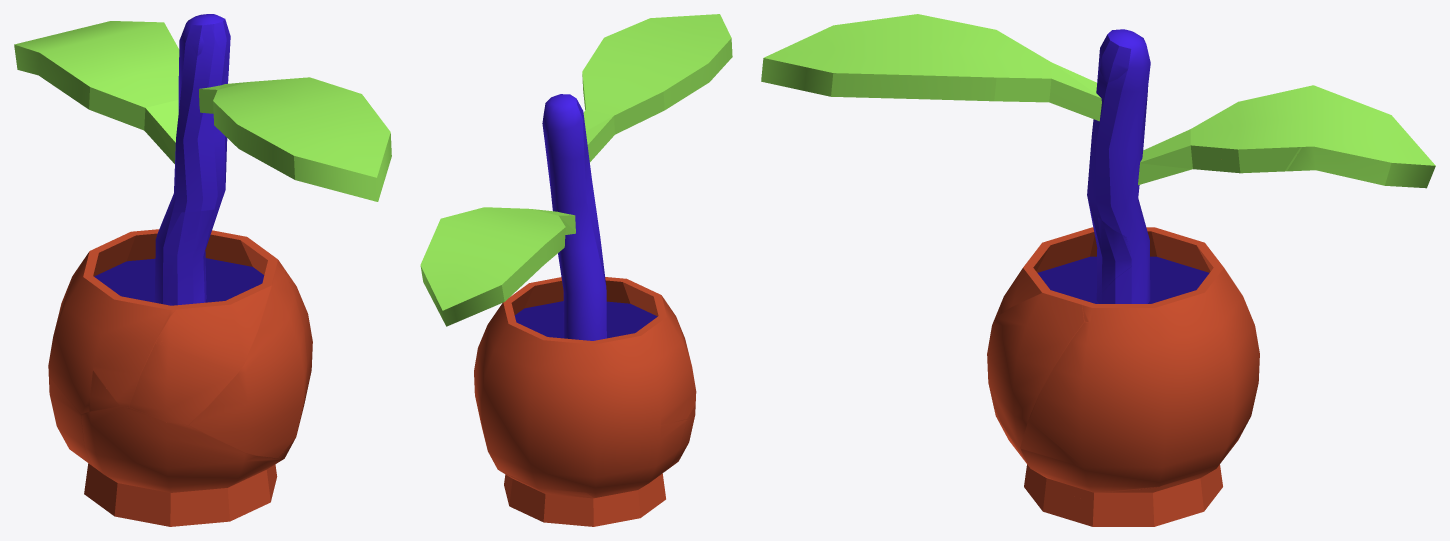
File: P_PotDeFleur_Colored_Breakable.fbx
3 renders of one model, left to right at view 1: azimuth 30°, elevation 25°; view 2: azimuth 150°, elevation 25°; view 3: azimuth 270°, elevation 25°, orthographic. The views are drawn at different scales.
Parts seen in each view (by area): view 1: P_PotDeFleur_Colored_Breakable, P_PotDeFleur_Colored_Breakable_cell.011, P_PotDeFleur_Colored_Breakable_cell.002, P_PotDeFleur_Colored_Breakable_cell.017, P_PotDeFleur_Colored_Breakable_cell.016, P_PotDeFleur_Colored_Breakable_cell.014, P_PotDeFleur_Colored_Breakable_cell, P_PotDeFleur_Colored_Breakable_cell.006, P_PotDeFleur_Colored_Breakable_cell.008, P_PotDeFleur_Colored_Breakable_cell.019, P_PotDeFleur_Colored_Breakable_cell.020, P_PotDeFleur_Colored_Breakable_cell.007; view 2: P_PotDeFleur_Colored_Breakable, P_PotDeFleur_Colored_Breakable_cell.019, P_PotDeFleur_Colored_Breakable_cell, P_PotDeFleur_Colored_Breakable_cell.014, P_PotDeFleur_Colored_Breakable_cell.006, P_PotDeFleur_Colored_Breakable_cell.011, P_PotDeFleur_Colored_Breakable_cell.003; view 3: P_PotDeFleur_Colored_Breakable, P_PotDeFleur_Colored_Breakable_cell.020, P_PotDeFleur_Colored_Breakable_cell.002, P_PotDeFleur_Colored_Breakable_cell.014, P_PotDeFleur_Colored_Breakable_cell.016, P_PotDeFleur_Colored_Breakable_cell.013, P_PotDeFleur_Colored_Breakable_cell, P_PotDeFleur_Colored_Breakable_cell.011, P_PotDeFleur_Colored_Breakable_cell.009, P_PotDeFleur_Colored_Breakable_cell.004, P_PotDeFleur_Colored_Breakable_cell.017, P_PotDeFleur_Colored_Breakable_cell.010 (+1 smaller).
Part boxes in pixels (left/top/right/bottom): P_PotDeFleur_Colored_Breakable: left=14, top=14, right=390, bottom=516; P_PotDeFleur_Colored_Breakable_cell.011: left=81, top=407, right=278, bottom=526; P_PotDeFleur_Colored_Breakable_cell.002: left=189, top=265, right=307, bottom=458; P_PotDeFleur_Colored_Breakable_cell.017: left=129, top=285, right=271, bottom=424; P_PotDeFleur_Colored_Breakable_cell.016: left=93, top=209, right=214, bottom=407; P_PotDeFleur_Colored_Breakable_cell.014: left=237, top=124, right=391, bottom=201; P_PotDeFleur_Colored_Breakable_cell: left=48, top=234, right=172, bottom=414; P_PotDeFleur_Colored_Breakable_cell.006: left=38, top=53, right=122, bottom=117; P_PotDeFleur_Colored_Breakable_cell.008: left=131, top=233, right=264, bottom=274; P_PotDeFleur_Colored_Breakable_cell.019: left=48, top=376, right=92, bottom=465; P_PotDeFleur_Colored_Breakable_cell.020: left=269, top=271, right=312, bottom=468; P_PotDeFleur_Colored_Breakable_cell.007: left=211, top=19, right=230, bottom=61; P_PotDeFleur_Colored_Breakable: left=420, top=14, right=731, bottom=526; P_PotDeFleur_Colored_Breakable_cell.019: left=587, top=419, right=686, bottom=497; P_PotDeFleur_Colored_Breakable_cell: left=661, top=391, right=696, bottom=424; P_PotDeFleur_Colored_Breakable_cell.014: left=708, top=38, right=732, bottom=81; P_PotDeFleur_Colored_Breakable_cell.006: left=544, top=227, right=565, bottom=264; P_PotDeFleur_Colored_Breakable_cell.011: left=669, top=405, right=695, bottom=468; P_PotDeFleur_Colored_Breakable_cell.003: left=501, top=471, right=594, bottom=498; P_PotDeFleur_Colored_Breakable: left=764, top=14, right=1435, bottom=526; P_PotDeFleur_Colored_Breakable_cell.020: left=1021, top=322, right=1165, bottom=501; P_PotDeFleur_Colored_Breakable_cell.002: left=987, top=293, right=1083, bottom=457; P_PotDeFleur_Colored_Breakable_cell.014: left=761, top=58, right=917, bottom=98; P_PotDeFleur_Colored_Breakable_cell.016: left=1089, top=208, right=1131, bottom=300; P_PotDeFleur_Colored_Breakable_cell.013: left=1211, top=147, right=1299, bottom=173; P_PotDeFleur_Colored_Breakable_cell: left=1147, top=231, right=1213, bottom=272; P_PotDeFleur_Colored_Breakable_cell.011: left=994, top=408, right=1061, bottom=516; P_PotDeFleur_Colored_Breakable_cell.009: left=1059, top=469, right=1215, bottom=526; P_PotDeFleur_Colored_Breakable_cell.004: left=1082, top=267, right=1131, bottom=322; P_PotDeFleur_Colored_Breakable_cell.017: left=995, top=268, right=1041, bottom=316; P_PotDeFleur_Colored_Breakable_cell.010: left=1179, top=145, right=1232, bottom=172.
Bounding box in the file's own units: 100 × 199 × 260.
